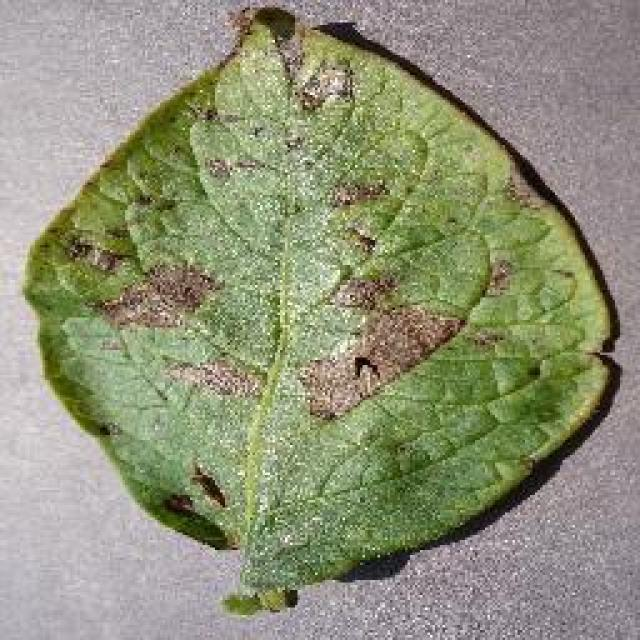Potato: (20, 3, 620, 615)
